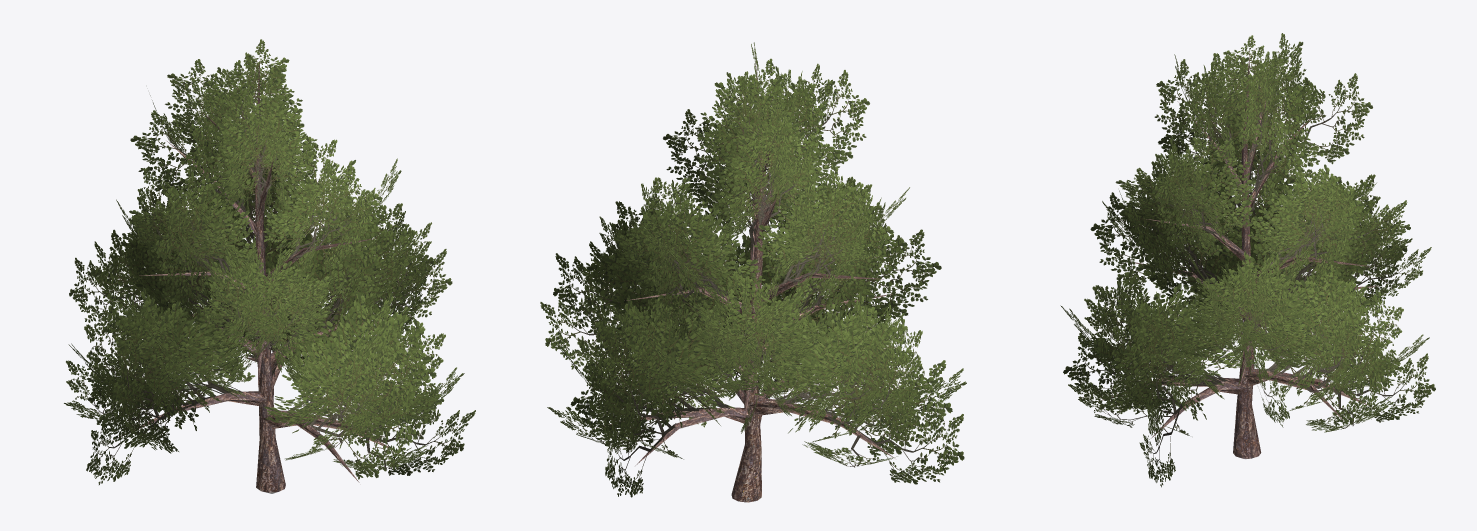
Rendered from Tree16.fbx.
3 views of the same model, side by side, from view 1: azimuth 30°, elevation 25°; view 2: azimuth 150°, elevation 25°; view 3: azimuth 270°, elevation 25° (orthographic). The views are drawn at different scales.
Parts seen in each view (by area): view 1: Tree_2, Tree_0; view 2: Tree_2, Tree_0; view 3: Tree_2, Tree_0.
Part boxes in pixels (box(x1,y1,x2,y2)): Tree_2: box(64, 39, 475, 484); Tree_0: box(112, 61, 388, 492); Tree_2: box(540, 42, 966, 497); Tree_0: box(596, 62, 895, 502); Tree_2: box(1060, 33, 1435, 487); Tree_0: box(1101, 49, 1378, 458).
Bounding box in the file's own units: 708 × 730 × 674.
2 materials, 2 textured.
